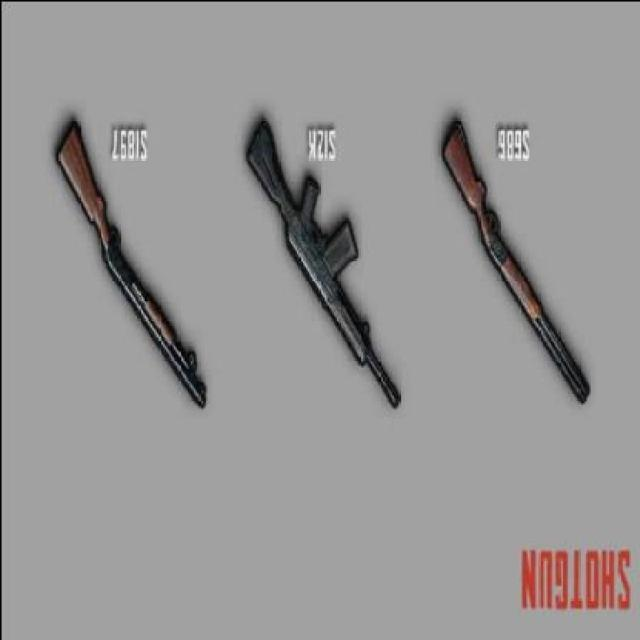weapon: (243, 114, 400, 408), (54, 117, 206, 408), (440, 115, 589, 403)
